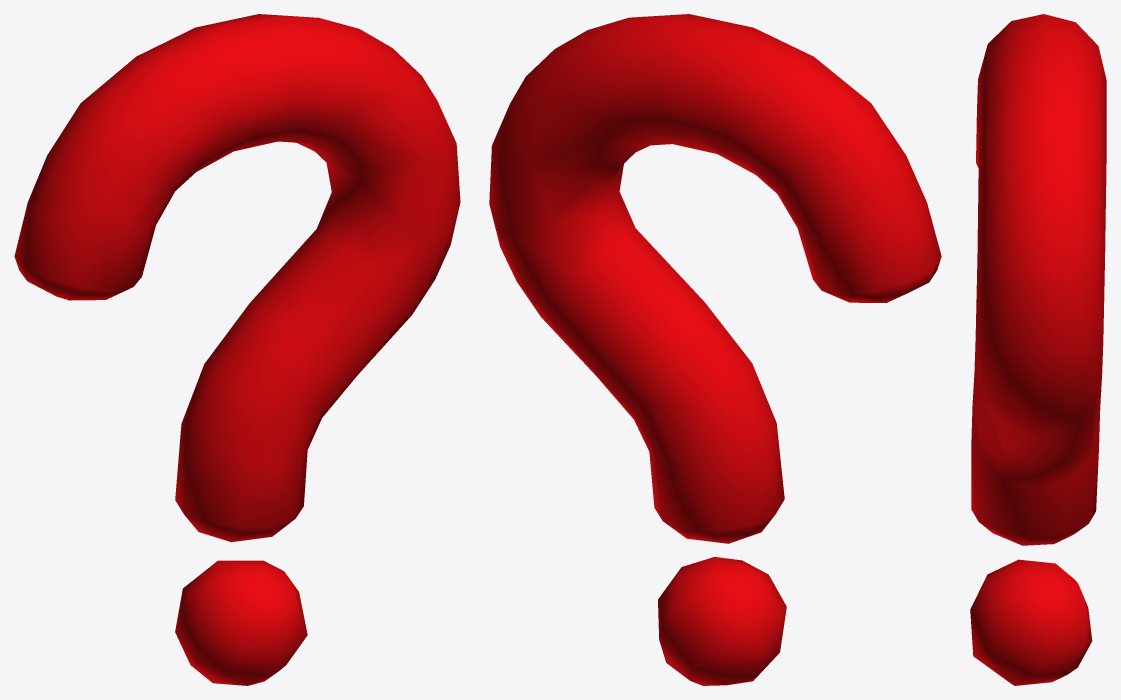
Rendered from question.glb.
The picture shows the model from 3 angles, left to right: view 1: azimuth 30°, elevation 25°; view 2: azimuth 150°, elevation 25°; view 3: azimuth 270°, elevation 25°; orthographic projection. The views are drawn at different scales.
Parts seen in each view (by area): view 1: BezierCurve, Cube; view 2: BezierCurve, Cube; view 3: BezierCurve, Cube.
Part boxes in pixels (x1=…): BezierCurve: x1=14, y1=14, x2=460, y2=542; Cube: x1=175, y1=560, x2=307, y2=685; BezierCurve: x1=489, y1=14, x2=941, y2=543; Cube: x1=658, y1=557, x2=786, y2=685; BezierCurve: x1=971, y1=14, x2=1106, y2=545; Cube: x1=970, y1=559, x2=1092, y2=685.
Size of the model in its own units: 0.706 by 1.02 by 0.1972.
